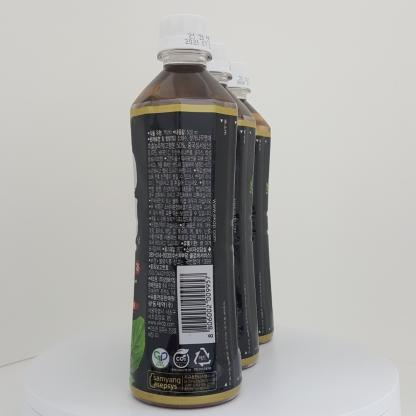---------500ML: (129, 14, 242, 409)
